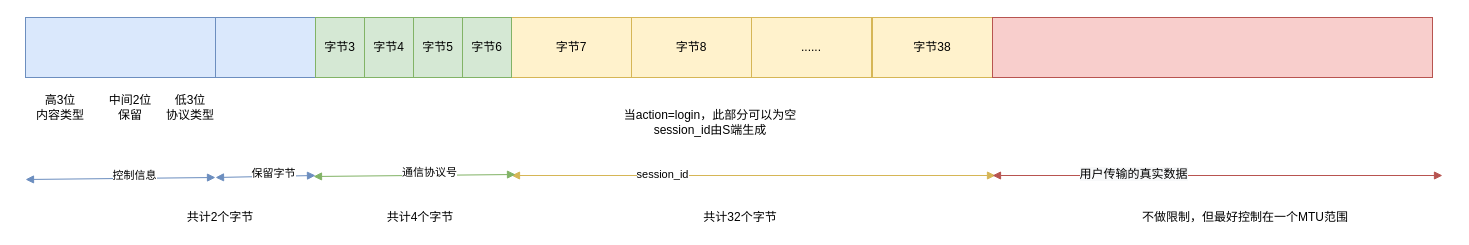
Some shapes in this 1469 by 245 pixel diagram are drawn without their labels. Each missing label, with the box of its shape:
字节1: (24, 16, 216, 78)
字节2: (214, 16, 316, 78)
字节39+N 字节8+N: (992, 16, 1432, 78)
